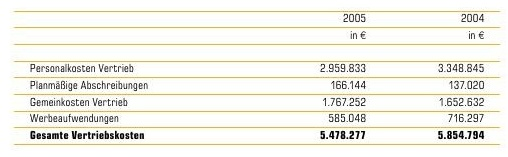table: (0, 0, 508, 157)
